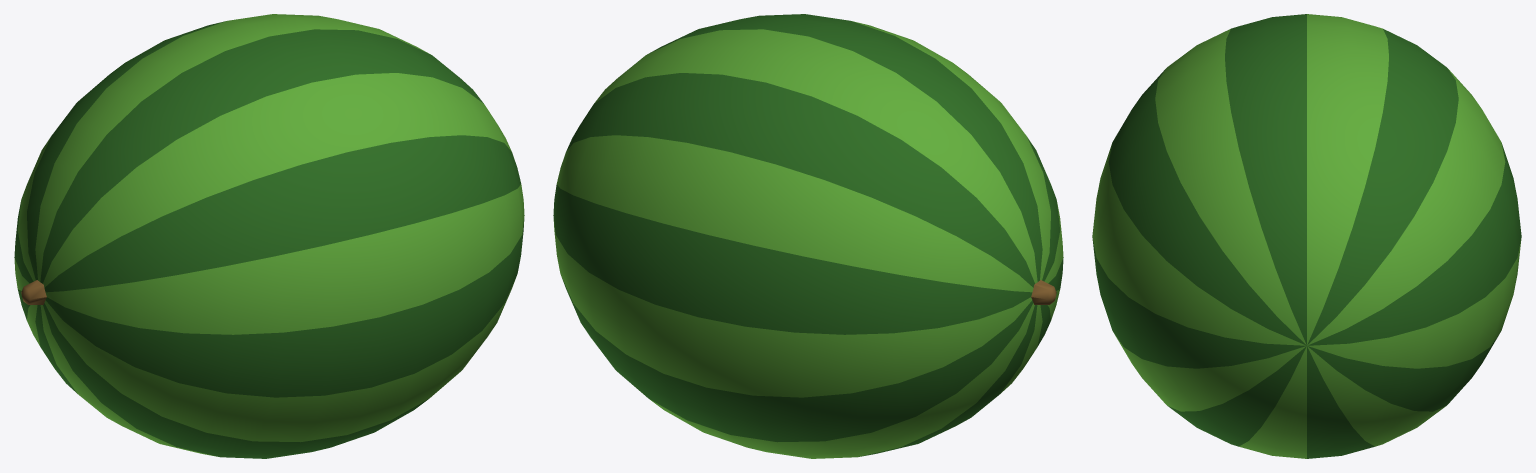
File: Watermelon.fbx
3 renders of one model, left to right at view 1: azimuth 30°, elevation 25°; view 2: azimuth 150°, elevation 25°; view 3: azimuth 270°, elevation 25°, orthographic. The views are drawn at different scales.
Parts seen in each view (by area): view 1: Watermelon; view 2: Watermelon; view 3: Watermelon.
Part boxes in pixels (left/top/right/bottom): Watermelon: left=14, top=14, right=524, bottom=458; Watermelon: left=553, top=14, right=1063, bottom=458; Watermelon: left=1092, top=14, right=1521, bottom=458.
Bounding box in the file's own units: 0.35 × 0.28 × 0.28.
